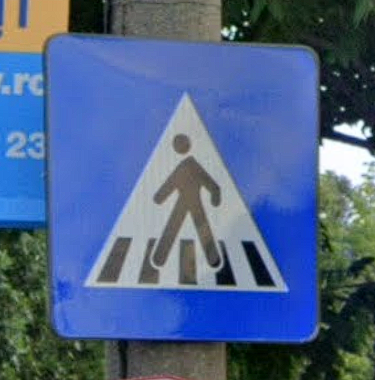trecere_pietoni: (40, 21, 325, 347)
